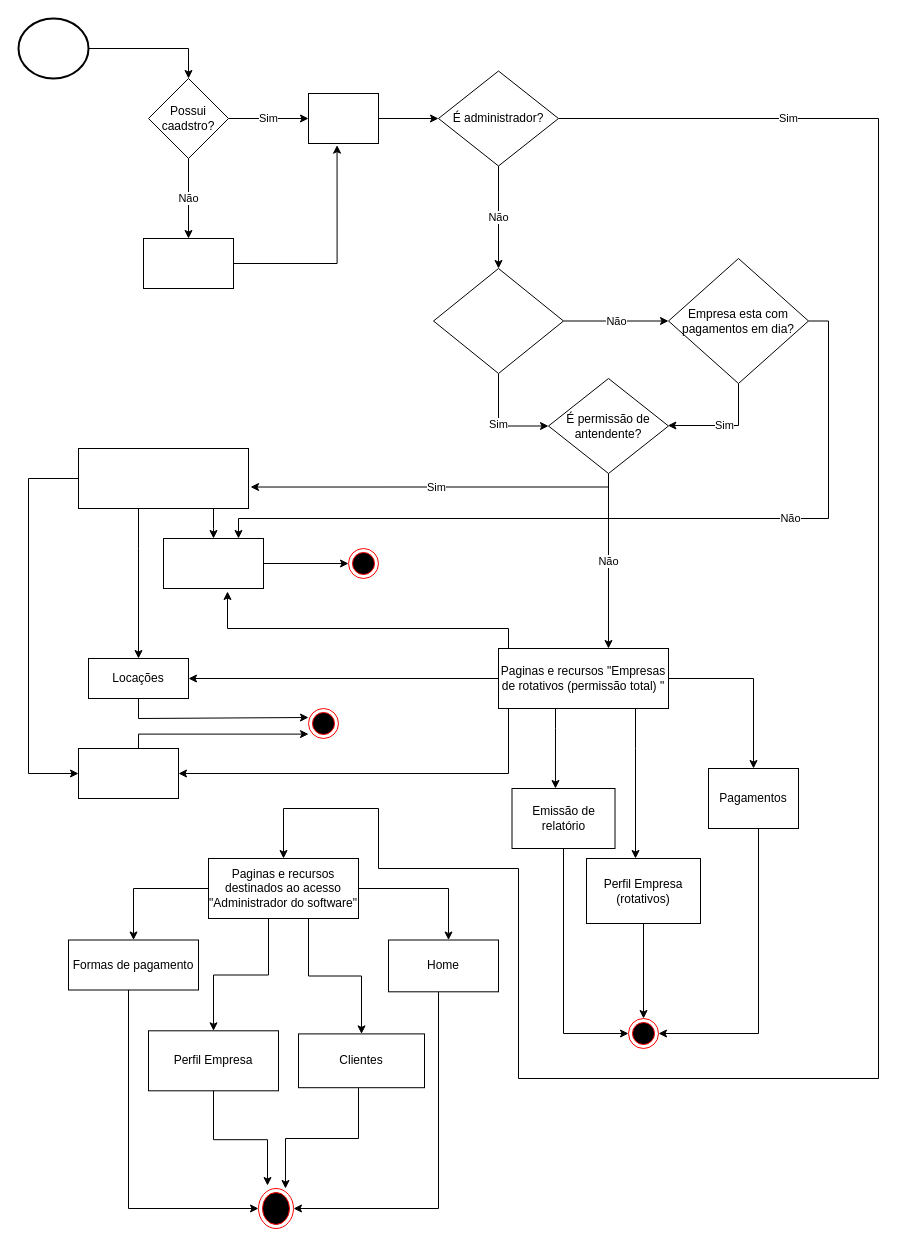
The diagram is 904 pixels wide and 1246 high, and some of its shapes have lost their labels. The shapes that lost their labels are listed below. From the top down, each one's box as (x1, y1, x2, y2) in pixels, then its label:
(17, 17, 89, 79): Início
(308, 92, 378, 144): Login
(142, 238, 234, 288): Se cadastra
(432, 268, 564, 374): Esta no período experimental?
(78, 448, 248, 508): Paginas e recursos "Empresas de rotativos (permissão restringida) "
(162, 538, 264, 588): Home (rotativos)
(78, 748, 178, 798): Reservas
